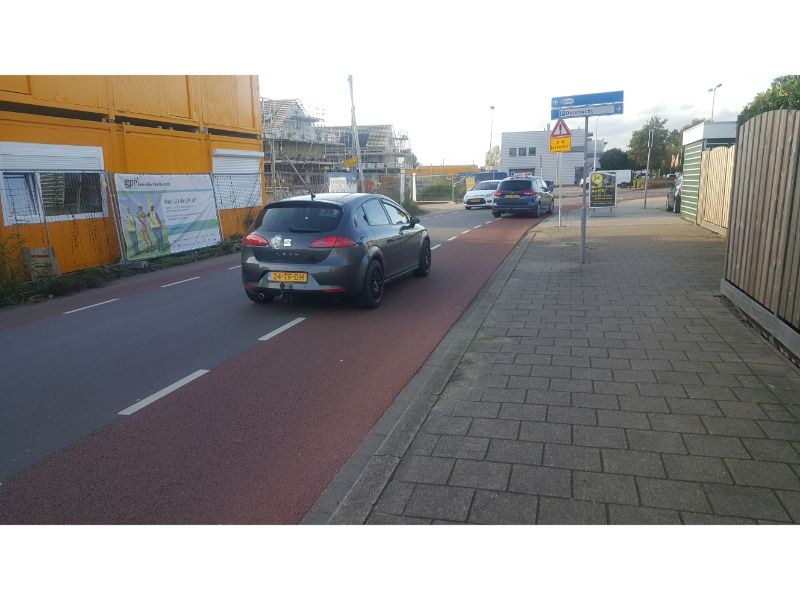kenteken: (268, 270, 307, 284)
